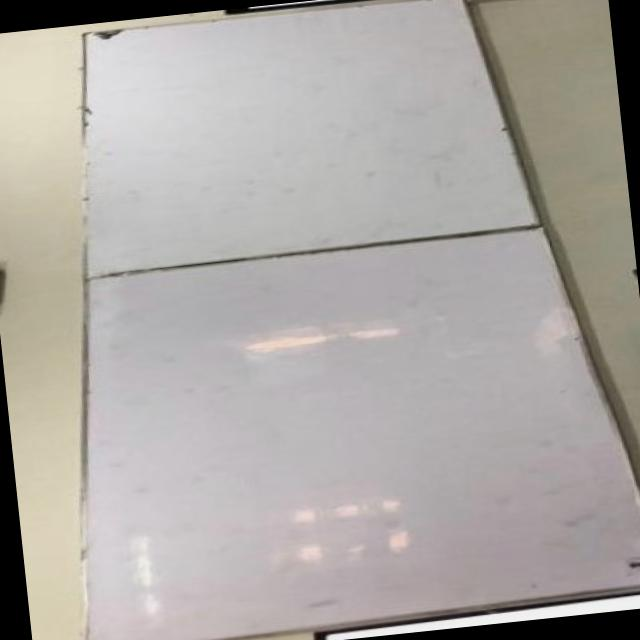White-board: (81, 0, 640, 640)
